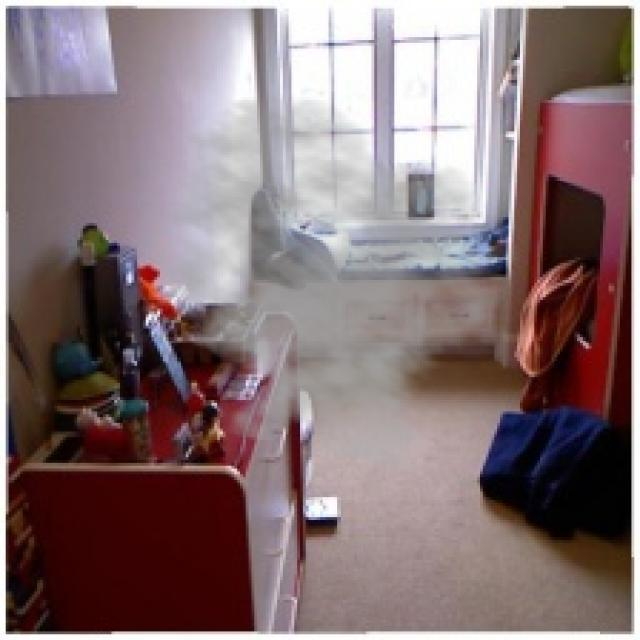Smoke: (123, 91, 523, 472)
